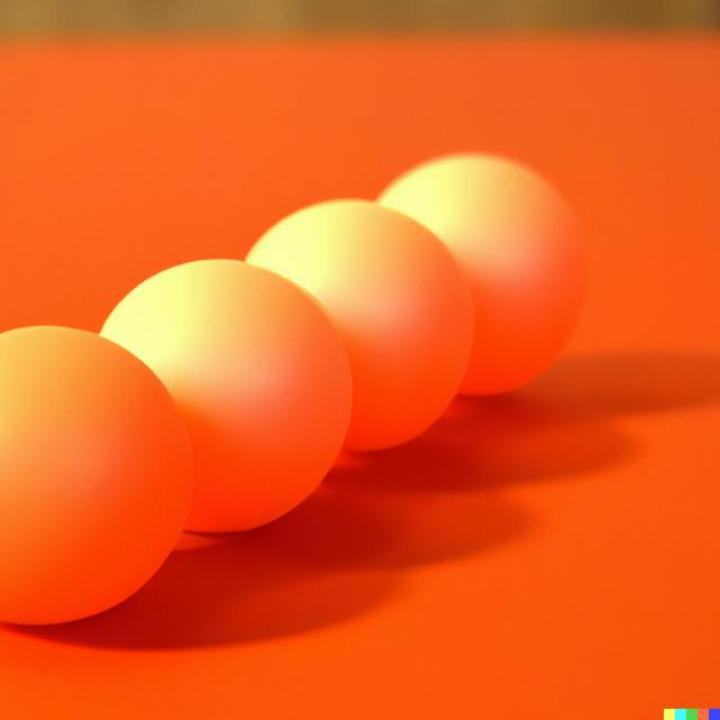orange: (97, 258, 355, 534), (0, 327, 192, 626), (248, 200, 473, 452), (375, 155, 590, 396)
